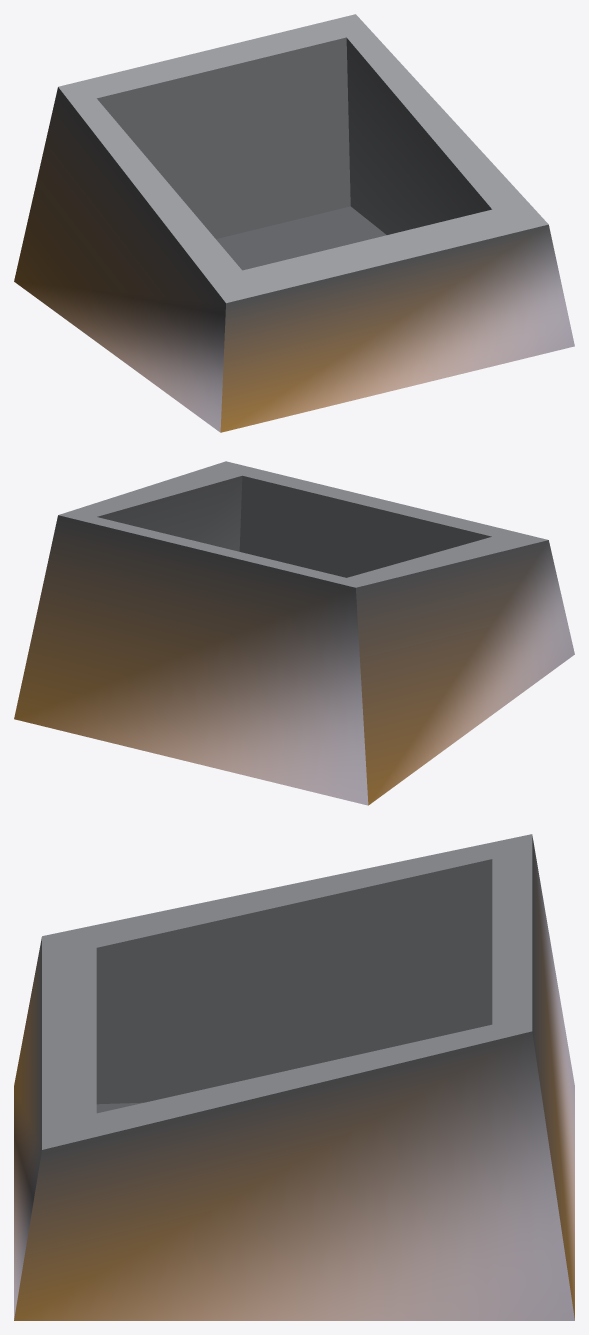
File: garyCannonBoxCollider_0.glb
3 renders of one model, top to bottom at view 1: azimuth 30°, elevation 25°; view 2: azimuth 150°, elevation 25°; view 3: azimuth 270°, elevation 25°, orthographic. The views are drawn at different scales.
Parts seen in each view (by area): view 1: garyCannonBoxCollider; view 2: garyCannonBoxCollider; view 3: garyCannonBoxCollider.
Part boxes in pixels (x1,y1,x2,y2): garyCannonBoxCollider: (14,14,574,432); garyCannonBoxCollider: (14,461,574,805); garyCannonBoxCollider: (14,834,574,1320).
Size of the model in its own units: 0.8401 by 0.4518 by 0.8482.
